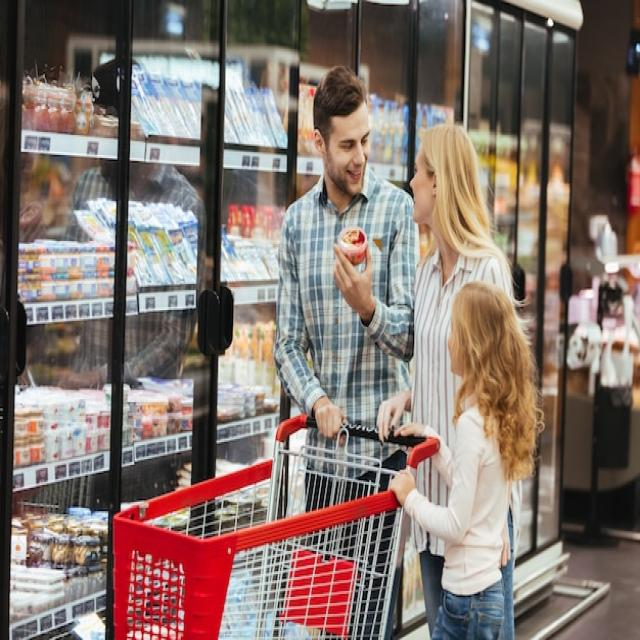Person: (378, 123, 514, 640), (390, 280, 544, 640), (275, 64, 419, 438)
